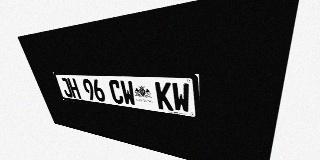6: (91, 79, 106, 102)
9: (81, 79, 97, 101)
C: (108, 80, 124, 104)
H: (67, 78, 81, 99)
J: (59, 78, 73, 98)
K: (155, 82, 173, 111)
W: (171, 82, 191, 113), (119, 80, 137, 106)
